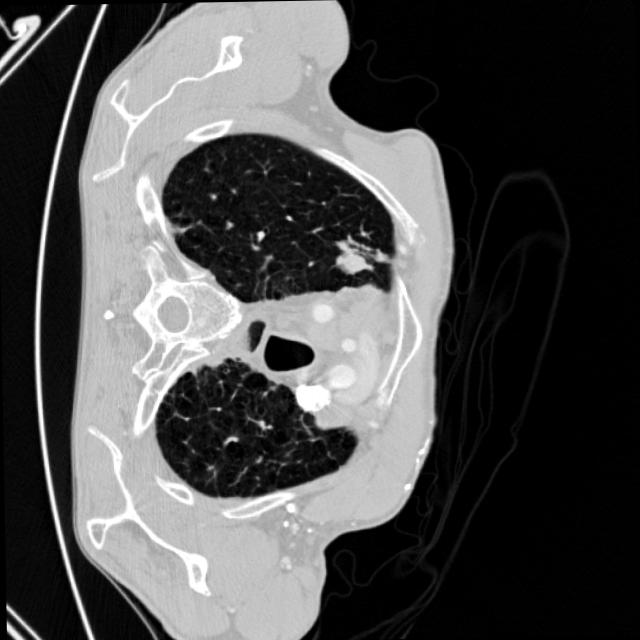nodule: (320, 216, 398, 295)
